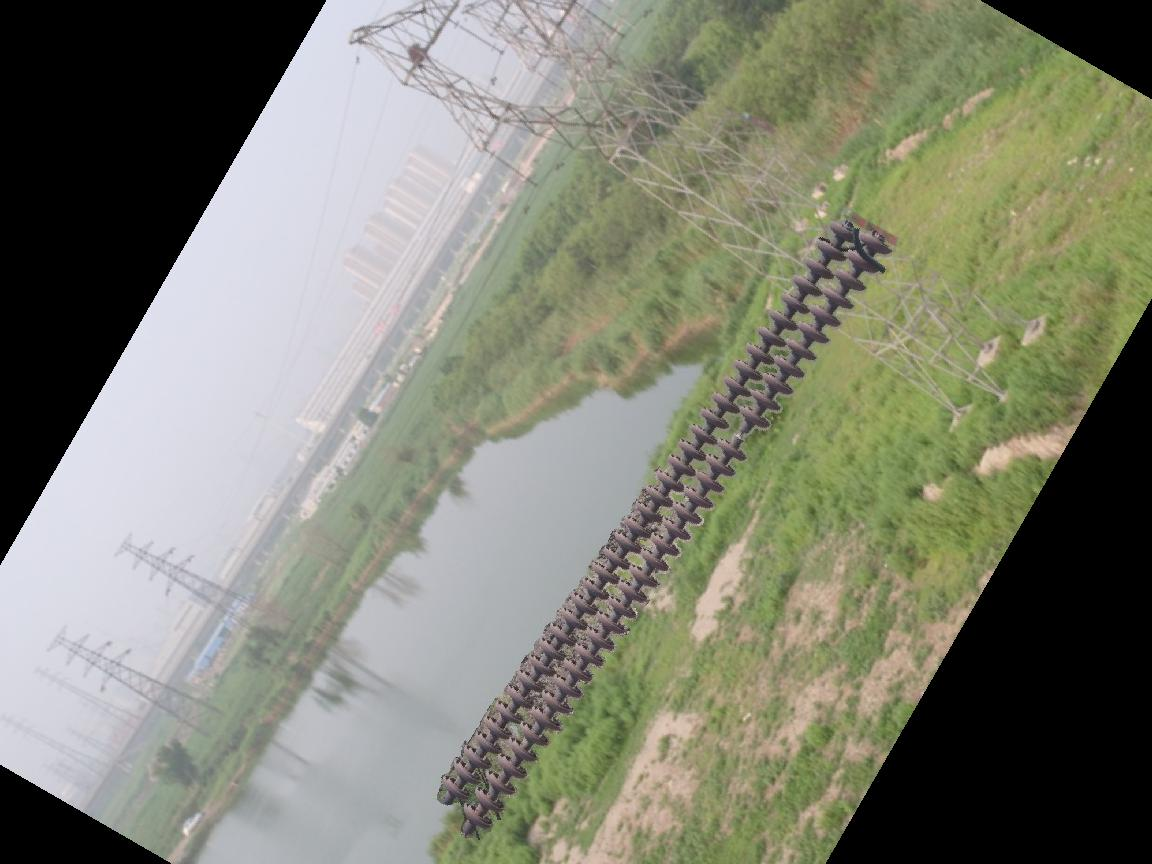insulator: (432, 214, 898, 841)
insulator_stringdrop: (714, 403, 774, 464)
